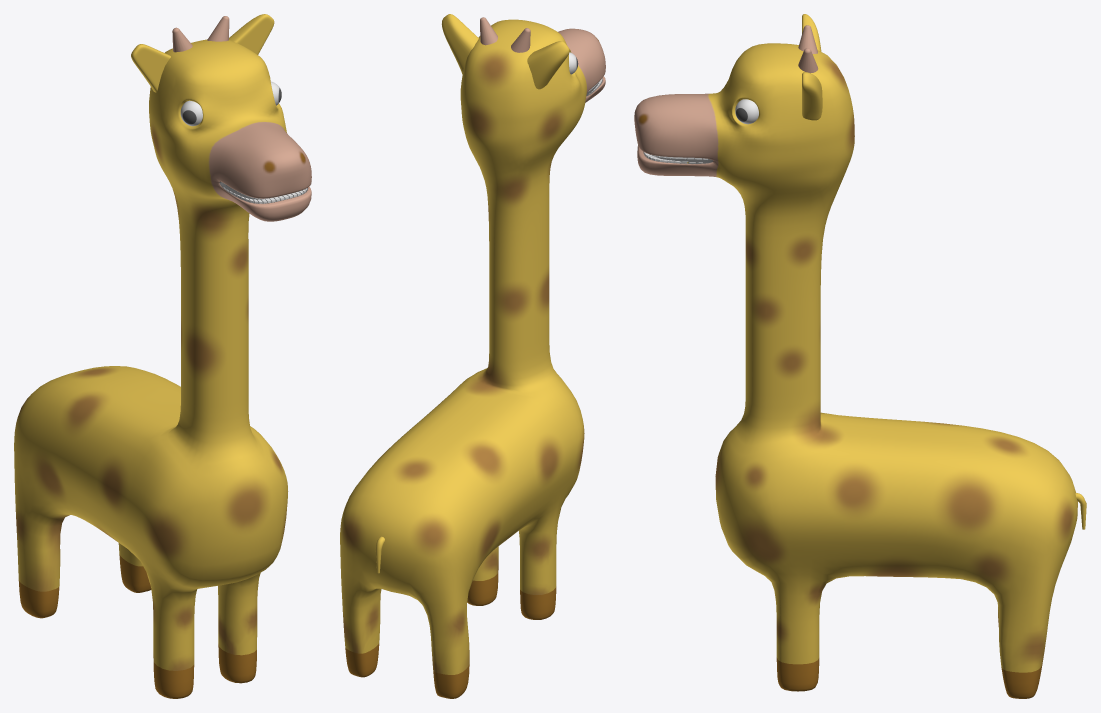
The picture shows the model from 3 angles, left to right: view 1: azimuth 30°, elevation 25°; view 2: azimuth 150°, elevation 25°; view 3: azimuth 270°, elevation 25°; orthographic projection. The views are drawn at different scales.
Visible parts, largest first — view 1: giraffe_melman5, giraffe_melman7, giraffe_melman3, giraffe_melman1; view 2: giraffe_melman5, giraffe_melman7, giraffe_melman3; view 3: giraffe_melman5, giraffe_melman3.
Part boxes in pixels (left/top/right/bottom): giraffe_melman5: left=14, top=39, right=311, bottom=698; giraffe_melman7: left=131, top=44, right=170, bottom=92; giraffe_melman3: left=229, top=14, right=274, bottom=54; giraffe_melman1: left=180, top=100, right=202, bottom=126; giraffe_melman5: left=340, top=19, right=605, bottom=698; giraffe_melman7: left=527, top=41, right=569, bottom=89; giraffe_melman3: left=441, top=14, right=478, bottom=74; giraffe_melman5: left=634, top=43, right=1077, bottom=698; giraffe_melman3: left=802, top=72, right=822, bottom=120.
Bounding box in the file's own units: 0.8342 × 3.7 × 2.39.
Materials: 1 (1 with a texture image).
